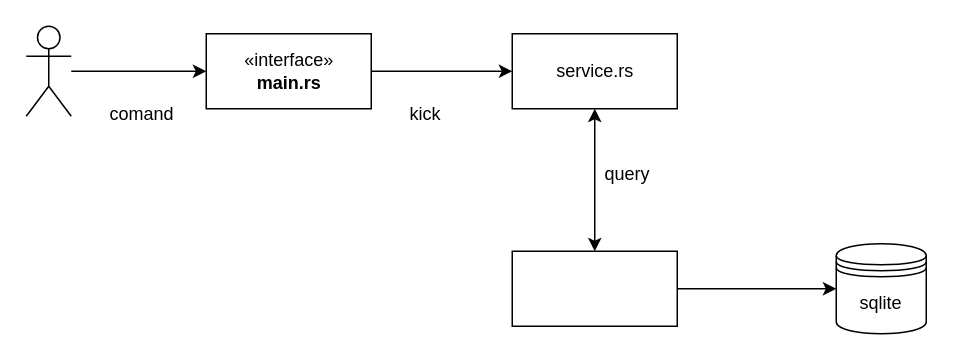
Image size: 953x360. Some labels were removed from this diagram. The shapes that lost their labels are listed below. From the top down, each one's centre as x and y in pixels, then its label:
(48,70): Actor
(594,288): db.rs
